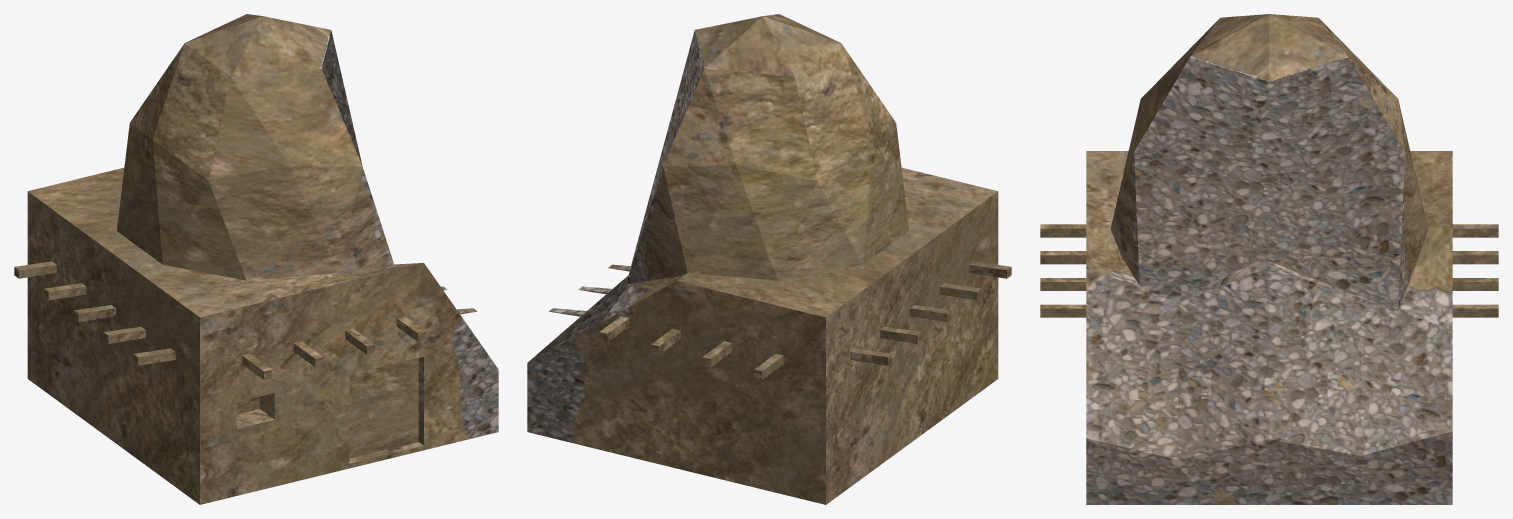
The model's file is building 4.glb.
3 views of the same model, side by side, from view 1: azimuth 30°, elevation 25°; view 2: azimuth 150°, elevation 25°; view 3: azimuth 270°, elevation 25° (orthographic). The views are drawn at different scales.
Parts seen in each view (by area): view 1: Cube.003; view 2: Cube.003; view 3: Cube.003.
Boxes of the visible parts, <box> form: Cube.003: <box>14,14,498,504</box>; Cube.003: <box>527,14,1011,504</box>; Cube.003: <box>1040,14,1498,504</box>.
Bounding box in the file's own units: 13.2 × 14.45 × 14.52.
1 material, 1 textured.
